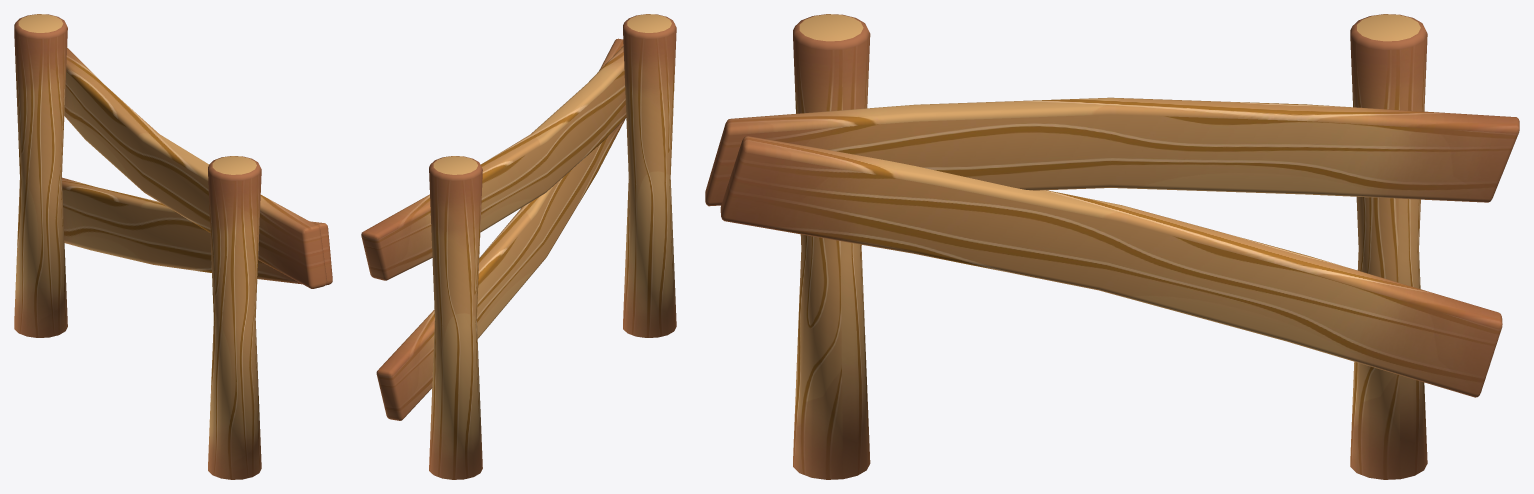
File: fence1.fbx
3 renders of one model, left to right at view 1: azimuth 30°, elevation 25°; view 2: azimuth 150°, elevation 25°; view 3: azimuth 270°, elevation 25°, orthographic. The views are drawn at different scales.
Parts seen in each view (by area): view 1: Cube.005; view 2: Cube.005; view 3: Cube.005.
Part boxes in pixels (x1,y1,x2,y2): Cube.005: (14,14,332,479); Cube.005: (361,14,676,479); Cube.005: (705,14,1519,479).
Bounding box in the file's own units: 22.17 × 73.49 × 125.
